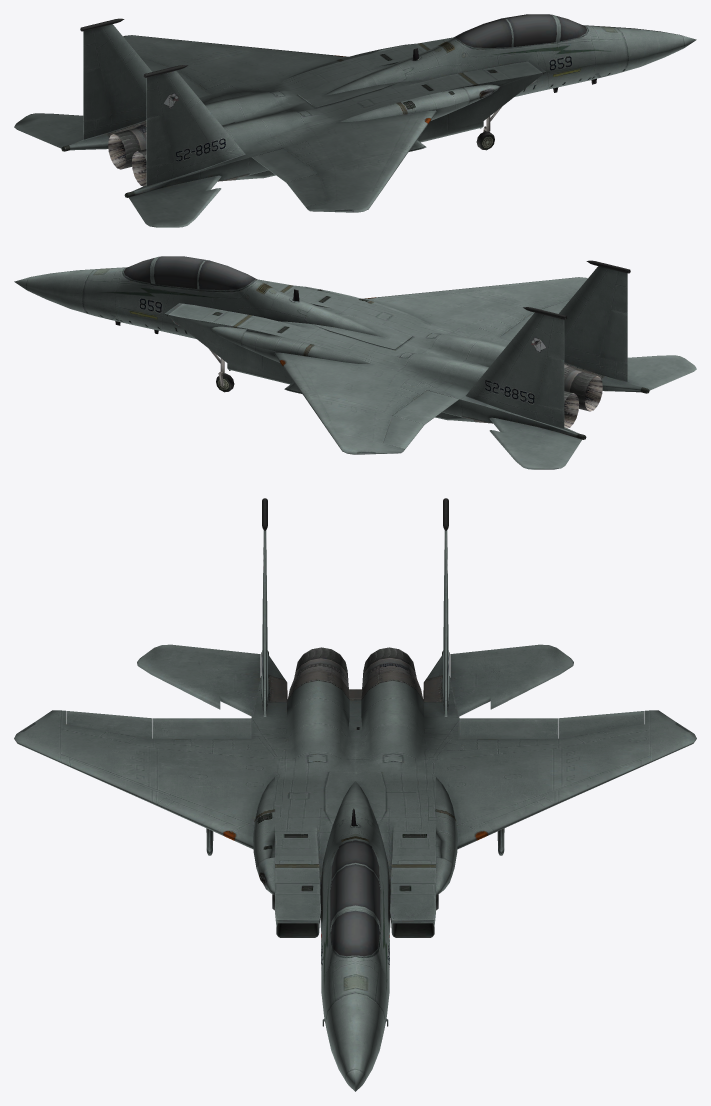
Rendered from F 15 Japan.fbx.
3 renders of one model, top to bottom at view 1: azimuth 30°, elevation 25°; view 2: azimuth 150°, elevation 25°; view 3: azimuth 270°, elevation 25°, orthographic. The views are drawn at different scales.
Parts seen in each view (by area): view 1: F 15 Japan; view 2: F 15 Japan; view 3: F 15 Japan.
Boxes of the visible parts, x1,y1,x2,y2 form: F 15 Japan: (14,14,696,227); F 15 Japan: (14,256,696,469); F 15 Japan: (14,498,696,1091).
Size of the model in its own units: 1885 by 555 by 1270.
